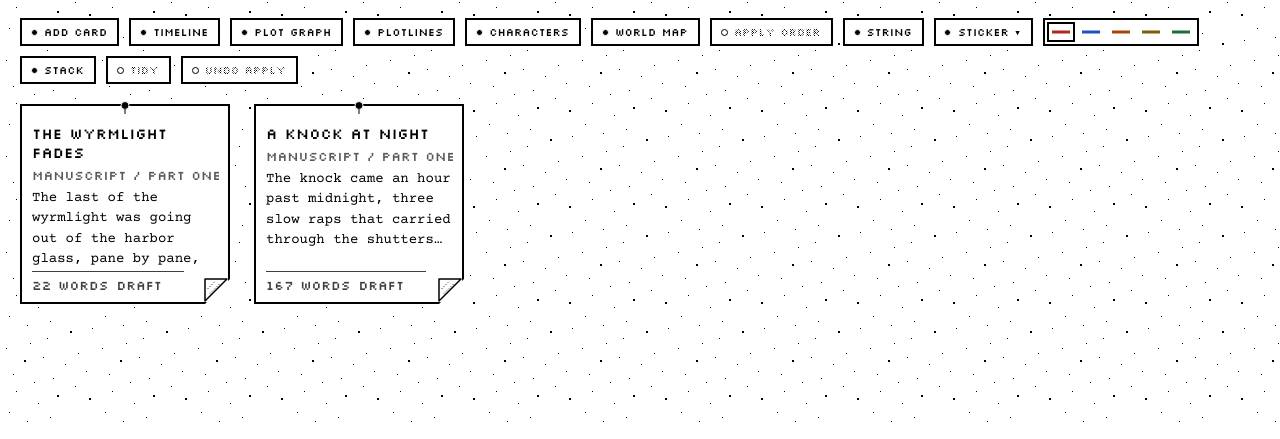
Test case: labelling a string between scenes › keeps the label when the writer clicks away instead of pressing Return
The image size is (1280, 439).
expect the element that starts with "The Wyrmlight Fades" is shown: met, box top-left (20, 104), bottom-right (230, 304)
Click the button with class "board-tool" showing "String": (883, 32) top-left (842, 18), bottom-right (924, 46)
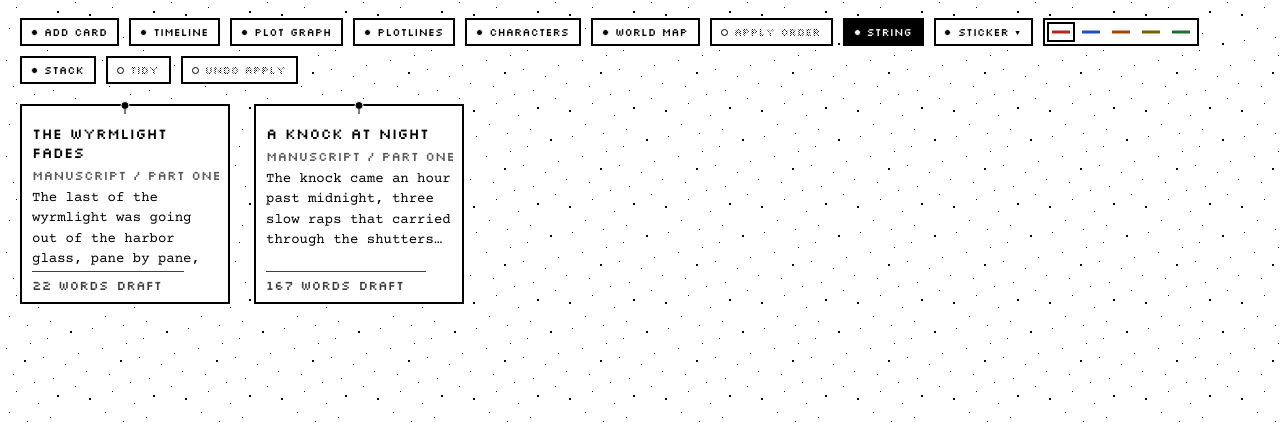
Click the button with aria-label "Open The Wyrmlight Fades": (125, 209) top-left (22, 116), bottom-right (228, 302)
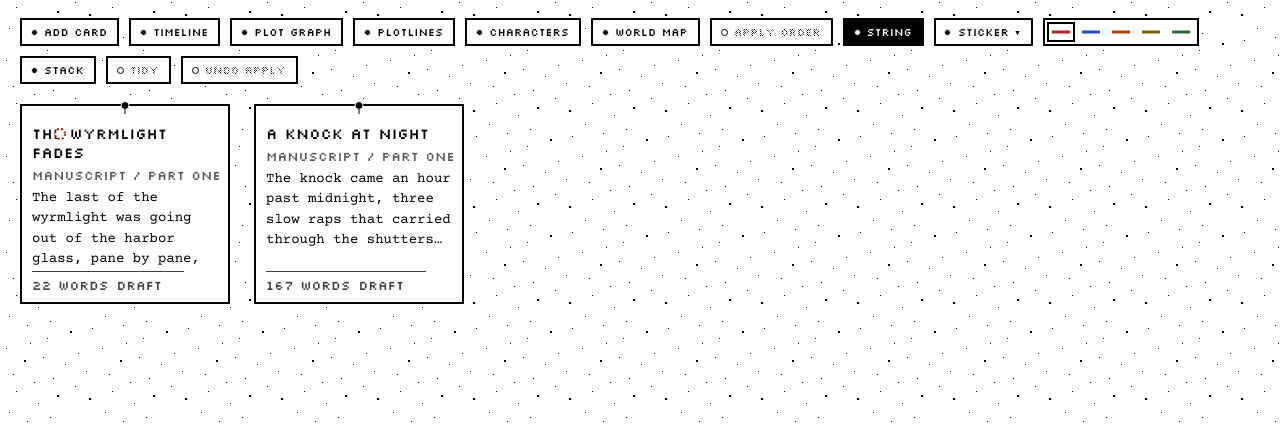
Click the button with aria-label "Open A Knock at Night": (359, 209) top-left (256, 116), bottom-right (462, 302)
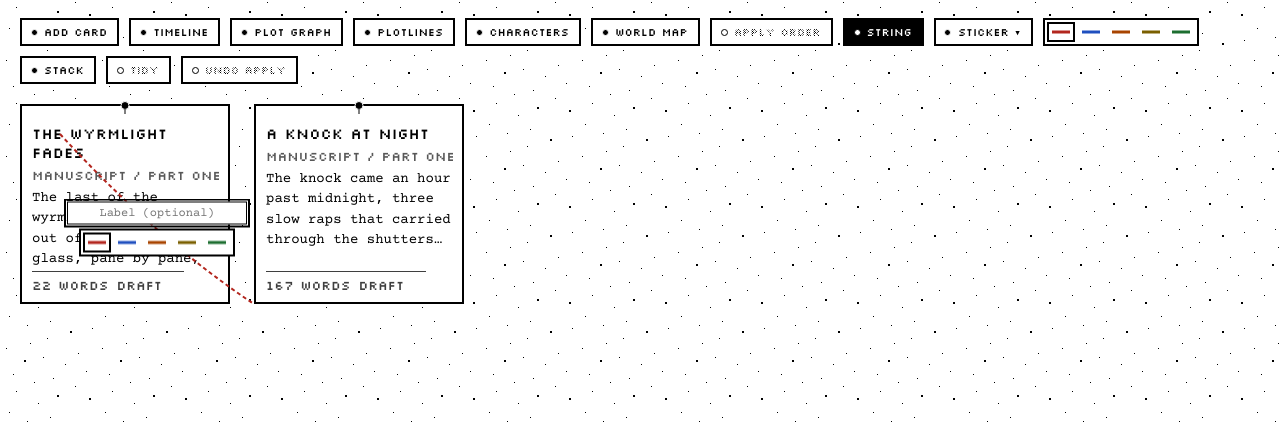
In the field with class "string-label-input": (157, 213) top-left (67, 202), bottom-right (247, 225), type "echoes"
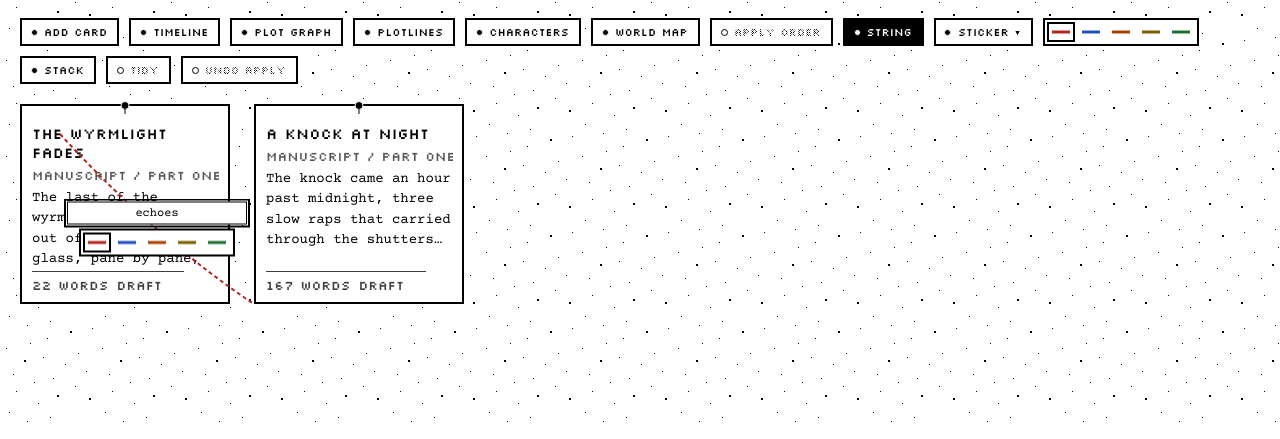
Leave the field with class "string-label-input", box top-left (67, 202), bottom-right (247, 225)
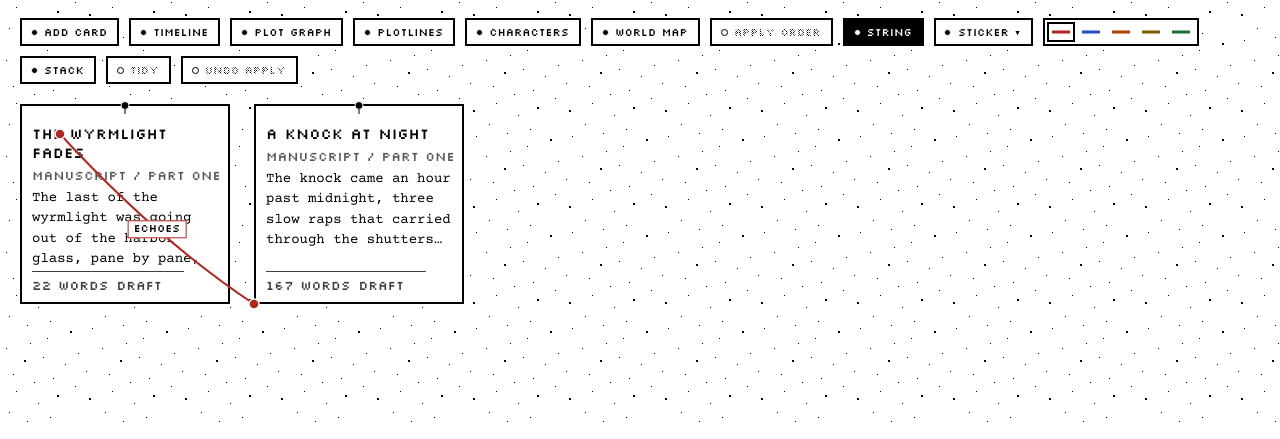
expect the button "echoes" is shown: met, box top-left (128, 221), bottom-right (186, 238)
